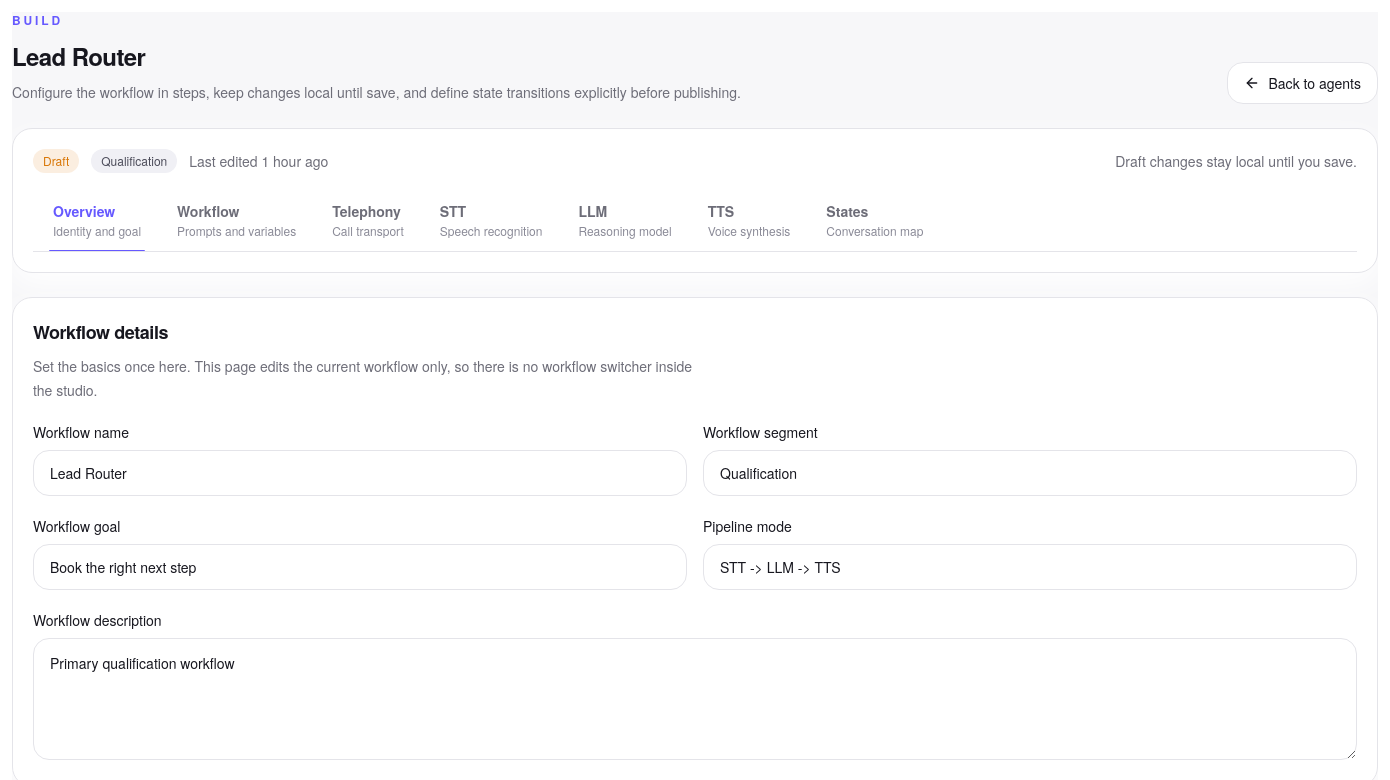
Test: AgentStudioScreen › shows workflow language selection and direct model entry controls
What coordinates should you click on to do the following:
click the tab "Workflow Prompts and variables"
I would click on:
 (237, 220)
Its box is [161,189,312,251].
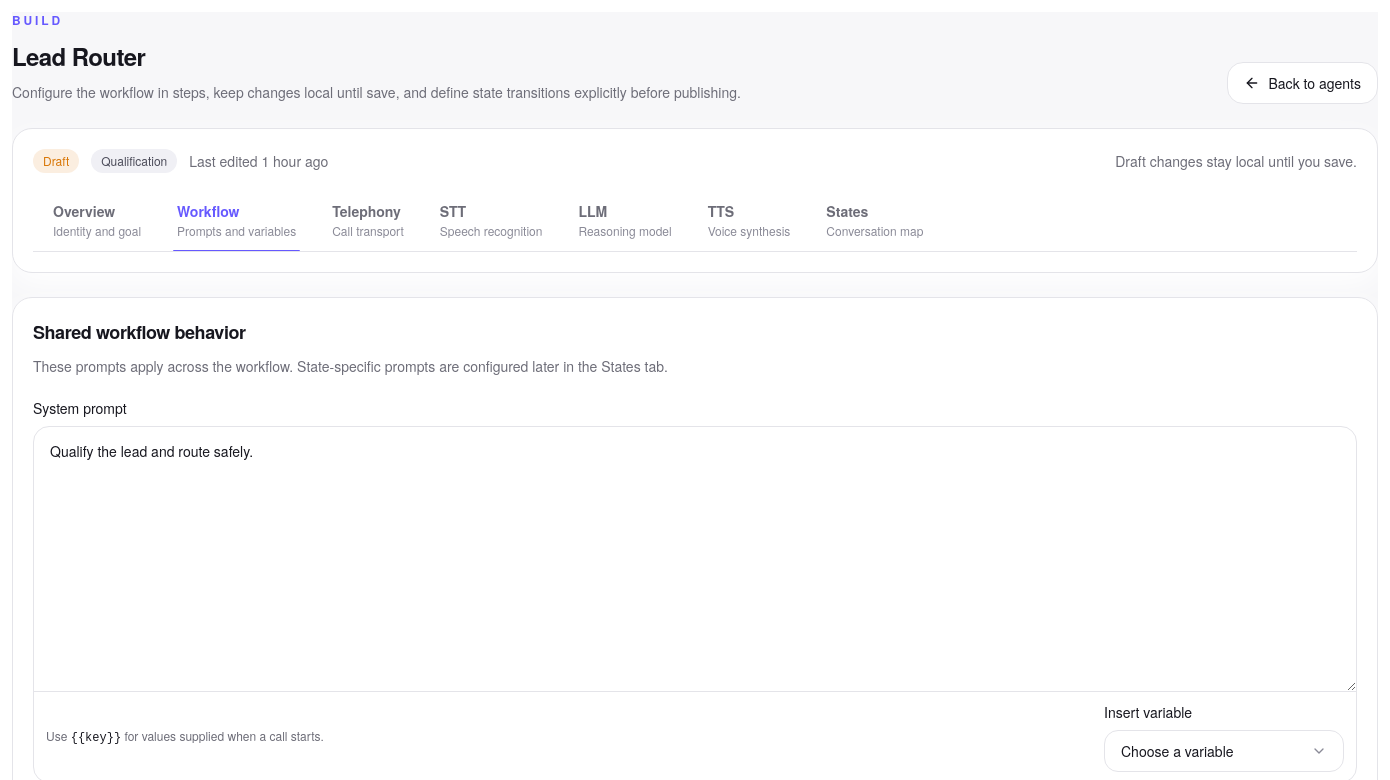
What coordinates should you click on to do the following:
click the tab "STT Speech recognition"
I would click on:
 (491, 220)
Its box is [424,189,558,251].
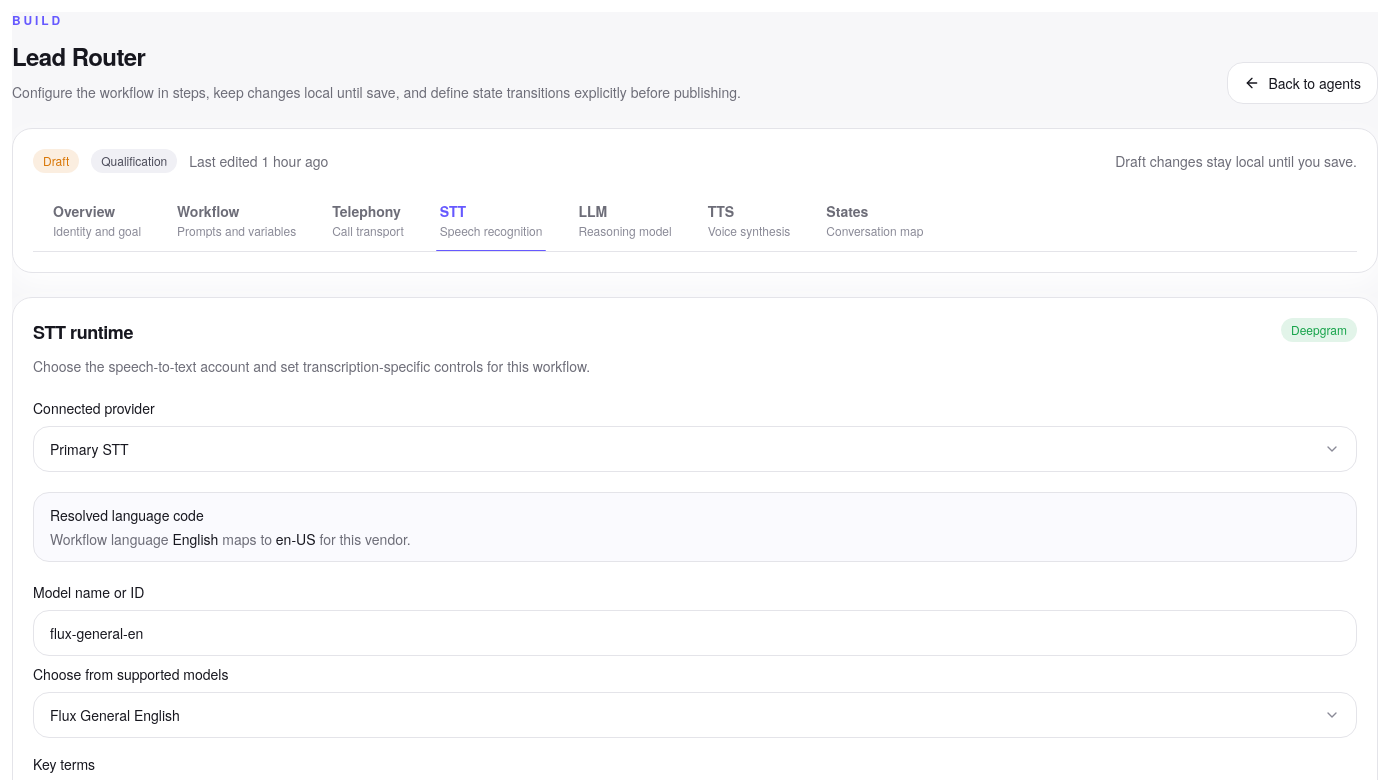
Check: the text "Model name or ID" is shown, box [33,582,144,602]
Check: the text "Resolved language code" is shown, box [50,505,204,525]
